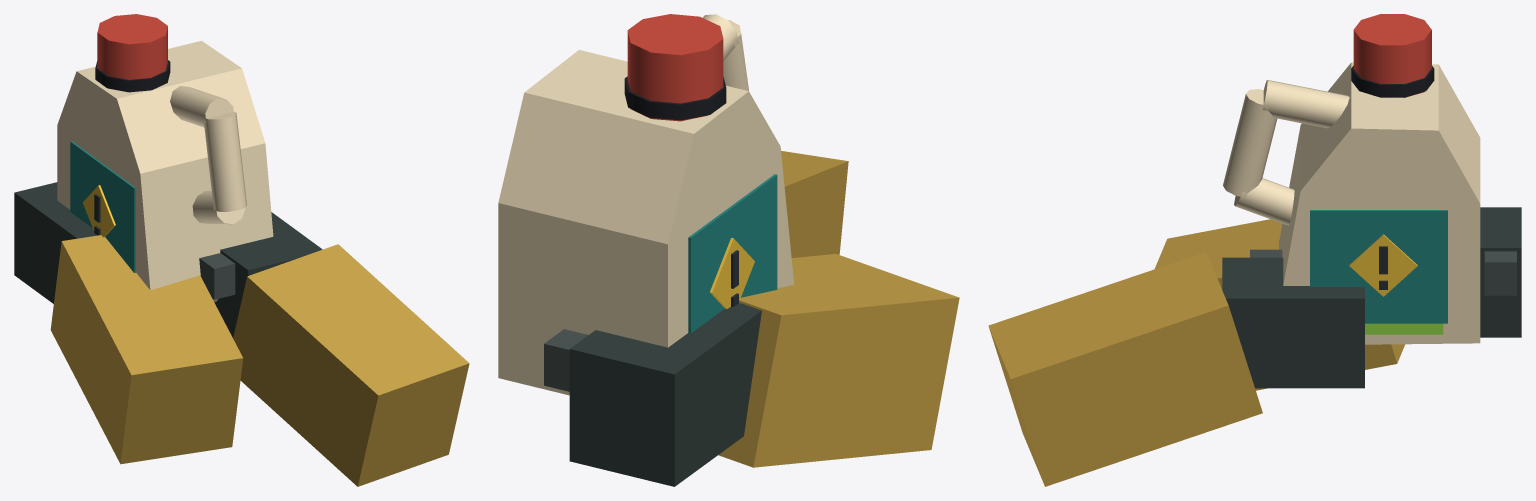
Rendered from bleach_bomb.glb.
3 renders of one model, left to right at view 1: azimuth 30°, elevation 25°; view 2: azimuth 150°, elevation 25°; view 3: azimuth 270°, elevation 25°, orthographic. The views are drawn at different scales.
Parts seen in each view (by area): view 1: _MeshInstance3D_4036, _MeshInstance3D_4030, _MeshInstance3D_4017, _MeshInstance3D_4029, _MeshInstance3D_4018, _MeshInstance3D_4019, _MeshInstance3D_4035, _MeshInstance3D_4021, _MeshInstance3D_4020, _MeshInstance3D_4039, _MeshInstance3D_4026, _MeshInstance3D_4022 (+1 smaller); view 2: _MeshInstance3D_4017, _MeshInstance3D_4030, _MeshInstance3D_4029, _MeshInstance3D_4018, _MeshInstance3D_4019, _MeshInstance3D_4036, _MeshInstance3D_4026, _MeshInstance3D_4031, _MeshInstance3D_4023, _MeshInstance3D_4021, _MeshInstance3D_4020; view 3: _MeshInstance3D_4036, _MeshInstance3D_4017, _MeshInstance3D_4035, _MeshInstance3D_4019, _MeshInstance3D_4018, _MeshInstance3D_4030, _MeshInstance3D_4029, _MeshInstance3D_4021, _MeshInstance3D_4020, _MeshInstance3D_4023, _MeshInstance3D_4022, _MeshInstance3D_4031 (+2 smaller).
Boxes of the visible parts, <box> form: _MeshInstance3D_4036: <box>233,244,469,486</box>; _MeshInstance3D_4030: <box>50,235,243,464</box>; _MeshInstance3D_4017: <box>57,40,273,302</box>; _MeshInstance3D_4029: <box>14,182,97,303</box>; _MeshInstance3D_4018: <box>97,14,167,79</box>; _MeshInstance3D_4019: <box>70,141,135,272</box>; _MeshInstance3D_4035: <box>214,212,322,337</box>; _MeshInstance3D_4021: <box>204,111,246,211</box>; _MeshInstance3D_4020: <box>170,86,233,127</box>; _MeshInstance3D_4039: <box>199,253,235,299</box>; _MeshInstance3D_4026: <box>95,60,170,92</box>; _MeshInstance3D_4022: <box>192,191,245,224</box>; _MeshInstance3D_4017: <box>498,50,794,395</box>; _MeshInstance3D_4030: <box>718,254,959,467</box>; _MeshInstance3D_4029: <box>569,303,761,486</box>; _MeshInstance3D_4018: <box>627,14,723,121</box>; _MeshInstance3D_4019: <box>688,174,777,333</box>; _MeshInstance3D_4036: <box>781,151,848,257</box>; _MeshInstance3D_4026: <box>624,76,726,120</box>; _MeshInstance3D_4031: <box>544,329,588,391</box>; _MeshInstance3D_4023: <box>710,238,754,308</box>; _MeshInstance3D_4021: <box>723,20,749,91</box>; _MeshInstance3D_4020: <box>703,14,738,60</box>; _MeshInstance3D_4036: <box>988,252,1262,486</box>; _MeshInstance3D_4017: <box>1279,62,1480,344</box>; _MeshInstance3D_4035: <box>1222,257,1364,388</box>; _MeshInstance3D_4019: <box>1310,210,1447,323</box>; _MeshInstance3D_4018: <box>1353,14,1431,97</box>; _MeshInstance3D_4030: <box>1155,219,1404,390</box>; _MeshInstance3D_4029: <box>1480,207,1521,337</box>; _MeshInstance3D_4021: <box>1223,89,1277,197</box>; _MeshInstance3D_4020: <box>1262,80,1349,128</box>; _MeshInstance3D_4023: <box>1349,234,1417,296</box>; _MeshInstance3D_4022: <box>1234,178,1294,225</box>; _MeshInstance3D_4031: <box>1484,251,1516,295</box>.
Bounding box in the file's own units: 0.1445 × 0.1797 × 0.2317.
